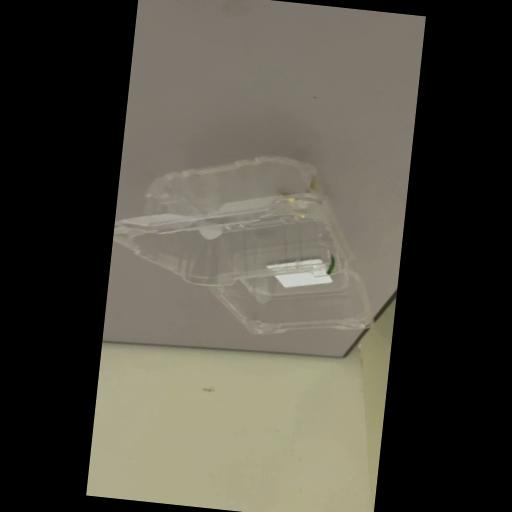small_plastic_container: (106, 144, 386, 344)
